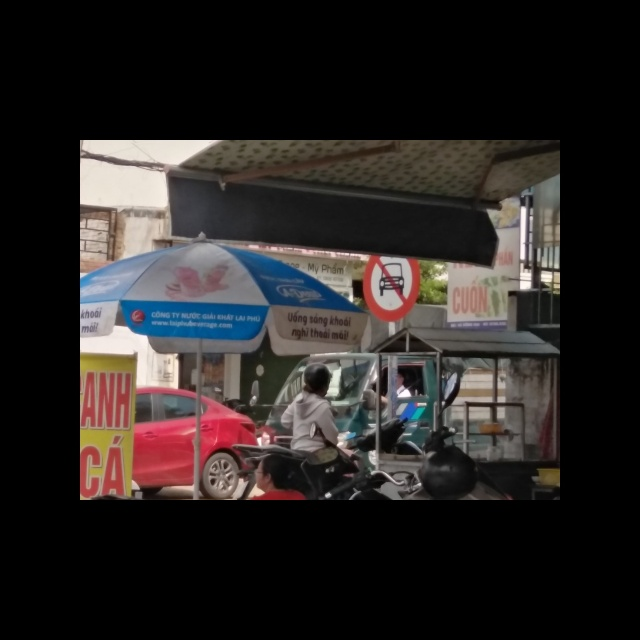Cấm xe ô tô: (356, 255, 419, 323)
